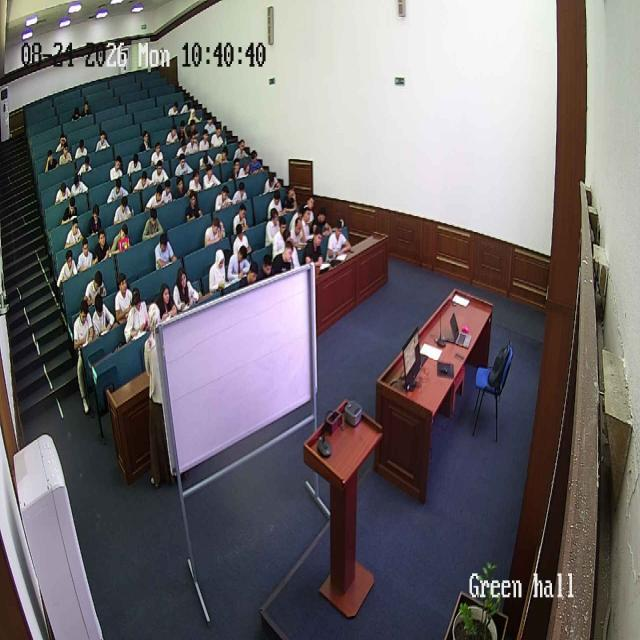person: (142, 308, 178, 488), (72, 298, 96, 413), (123, 288, 149, 344), (173, 268, 201, 312), (92, 292, 115, 340), (326, 219, 352, 261), (114, 271, 134, 325), (206, 249, 228, 295), (226, 242, 250, 284), (154, 230, 178, 271), (84, 270, 108, 310), (56, 248, 78, 290), (272, 239, 296, 276), (157, 281, 179, 321), (306, 226, 326, 268), (232, 222, 254, 260), (110, 221, 132, 258), (203, 213, 226, 248), (265, 209, 284, 250), (76, 236, 96, 274), (142, 207, 164, 241), (93, 226, 112, 265), (289, 212, 309, 248), (64, 213, 84, 248), (106, 175, 128, 204), (112, 196, 132, 227), (60, 198, 80, 228), (185, 190, 203, 223), (132, 166, 152, 193), (233, 143, 251, 173), (150, 159, 169, 187), (88, 203, 104, 236), (156, 178, 174, 207), (215, 183, 233, 212), (69, 178, 89, 204), (203, 164, 222, 190), (55, 180, 73, 207), (264, 170, 282, 196), (281, 186, 299, 212), (174, 153, 192, 178), (186, 168, 204, 193), (57, 140, 73, 168), (75, 156, 93, 180), (316, 205, 331, 233), (172, 173, 187, 201), (109, 156, 125, 182), (232, 181, 248, 207), (126, 152, 142, 177), (73, 138, 89, 162), (44, 148, 60, 172), (259, 254, 273, 280), (150, 143, 165, 166), (251, 146, 263, 173), (179, 132, 191, 158), (304, 194, 316, 220), (96, 130, 110, 152), (165, 123, 179, 145), (210, 127, 224, 149), (246, 265, 260, 286), (165, 99, 181, 117), (185, 132, 198, 154), (227, 157, 240, 177), (140, 131, 152, 152), (176, 118, 188, 139), (187, 108, 200, 126), (240, 158, 250, 180), (180, 95, 192, 112), (70, 106, 82, 122), (188, 119, 198, 137), (201, 132, 210, 152), (55, 137, 68, 150), (85, 100, 94, 116)
